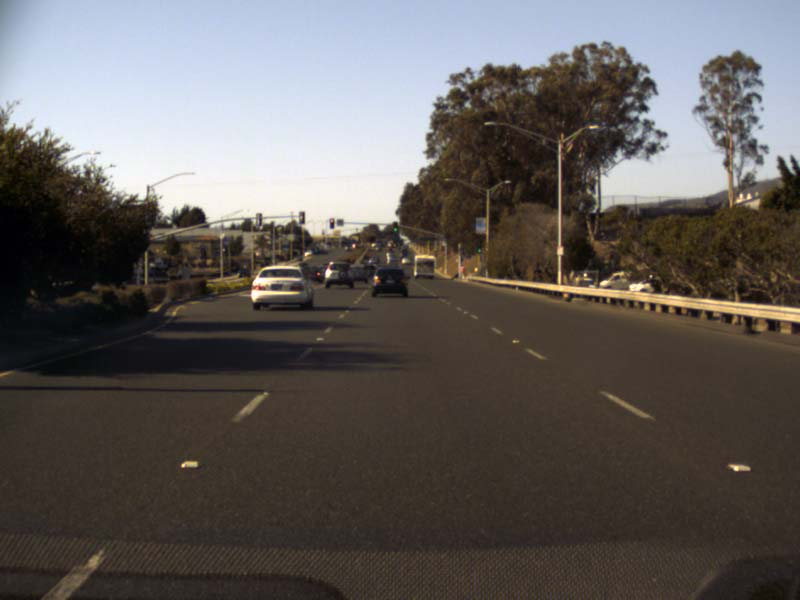Green: (393, 222, 397, 232)
Red: (330, 218, 333, 227)
